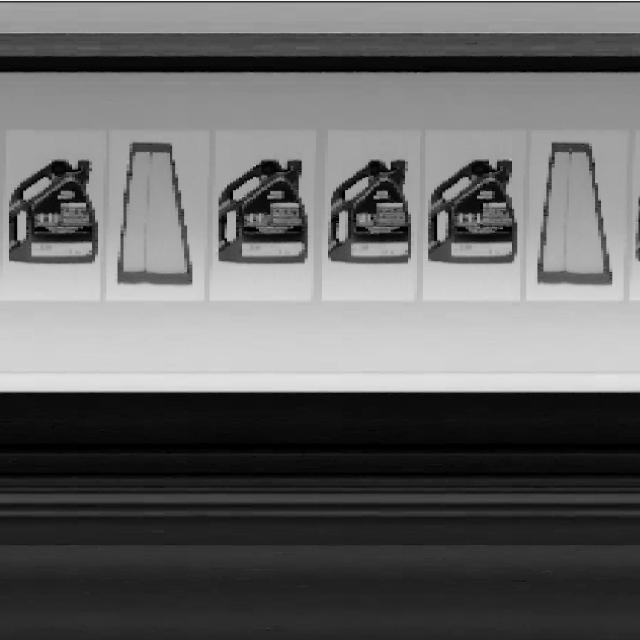air_filter: (530, 138, 616, 294), (116, 138, 195, 291)
motor_oil: (214, 148, 312, 278), (5, 152, 98, 274), (323, 151, 412, 271), (426, 154, 519, 264)
